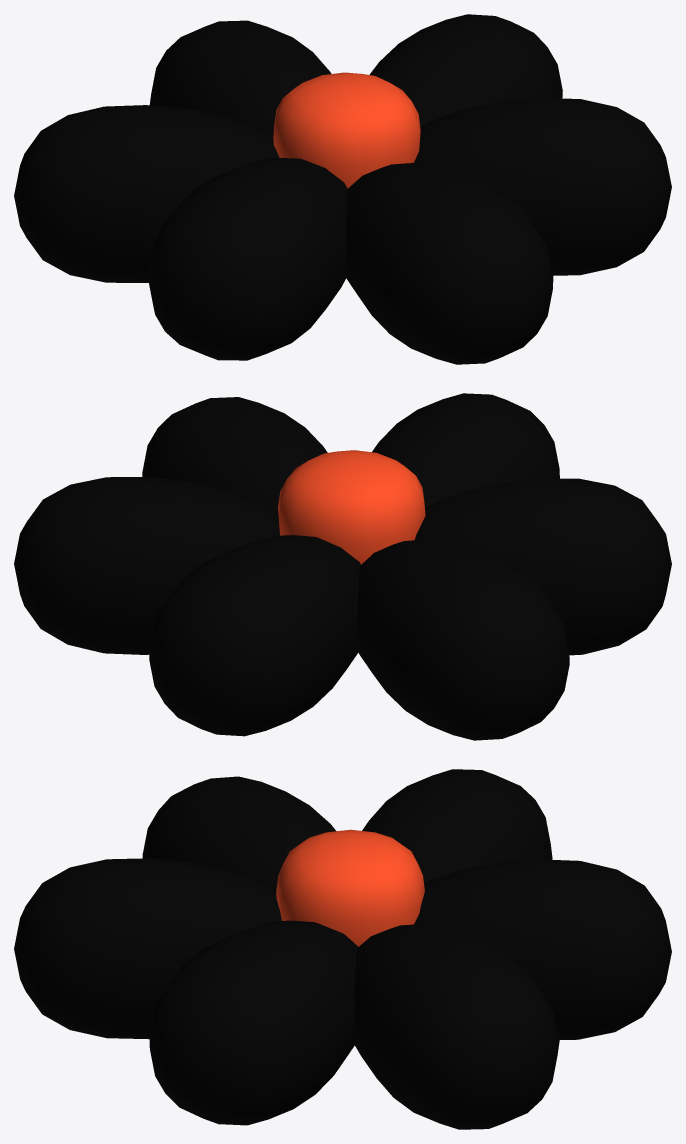
File: flor negra.fbx
The picture shows the model from 3 angles, top to bottom: view 1: azimuth 30°, elevation 25°; view 2: azimuth 150°, elevation 25°; view 3: azimuth 270°, elevation 25°; orthographic projection.
Parts seen in each view (by area): view 1: Cube.001; view 2: Cube.001; view 3: Cube.001.
Part boxes in pixels (x1=…): Cube.001: x1=14, y1=14, x2=671, y2=364; Cube.001: x1=14, y1=393, x2=671, y2=740; Cube.001: x1=14, y1=769, x2=671, y2=1129.
Bounding box in the file's own units: 718 × 239 × 758.
